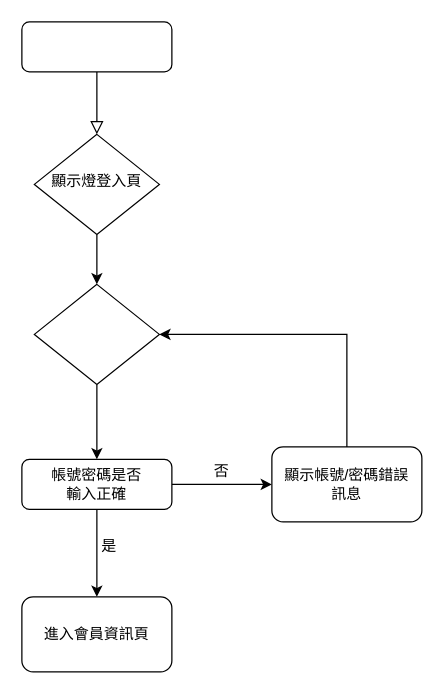
Image size: 444x694. Some labels were removed from this diagram. The shapes that lost their labels are listed below. From the top down, each one's centre as x and y in pixels, then its label:
the point at 96,46: 會員登入
the point at 96,333: 使用者輸入 帳號密碼
